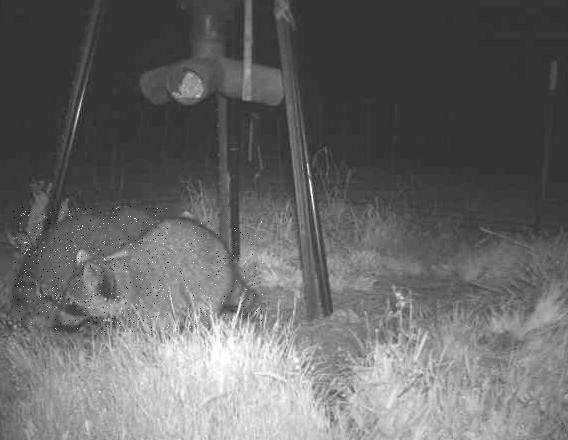Raccoon: (55, 219, 263, 333), (13, 207, 168, 324)
